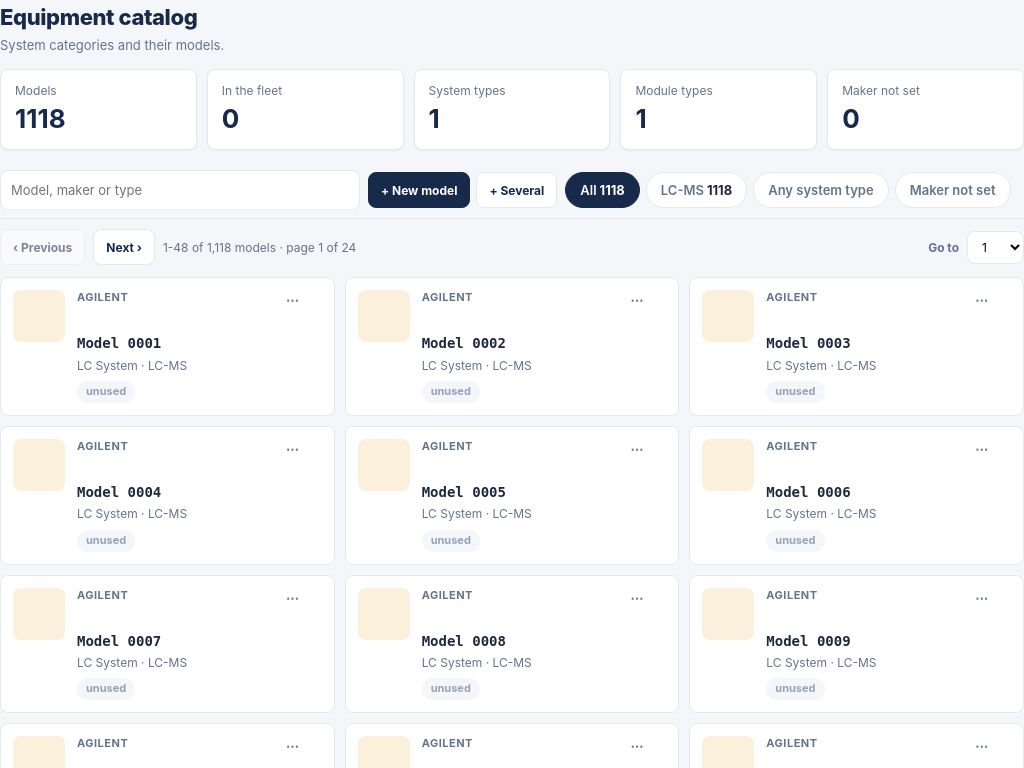
Scenario: the empty state still reads › says no match rather than drawing an empty page
The image size is (1024, 768).
Type "Waters Xevo" into the field with placeholder "Model, maker or type" at (180, 190), box [0,170,360,210]
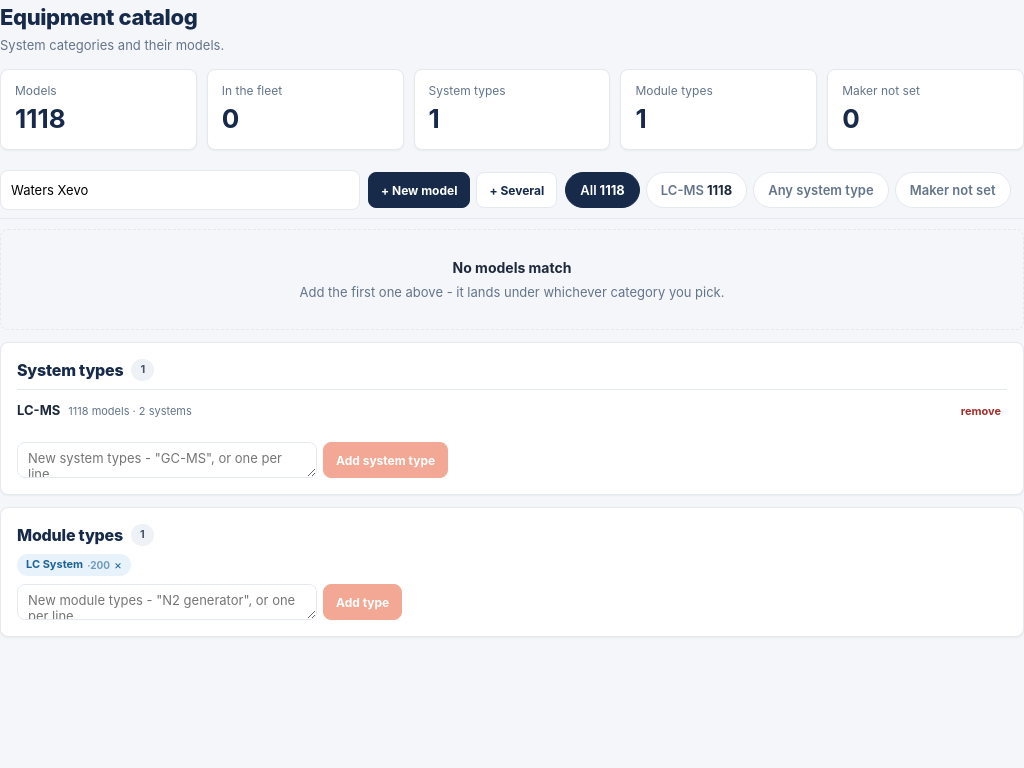
Now the text "No models match" is shown, box [452,259,571,276]
Now the button "Next" is gone
